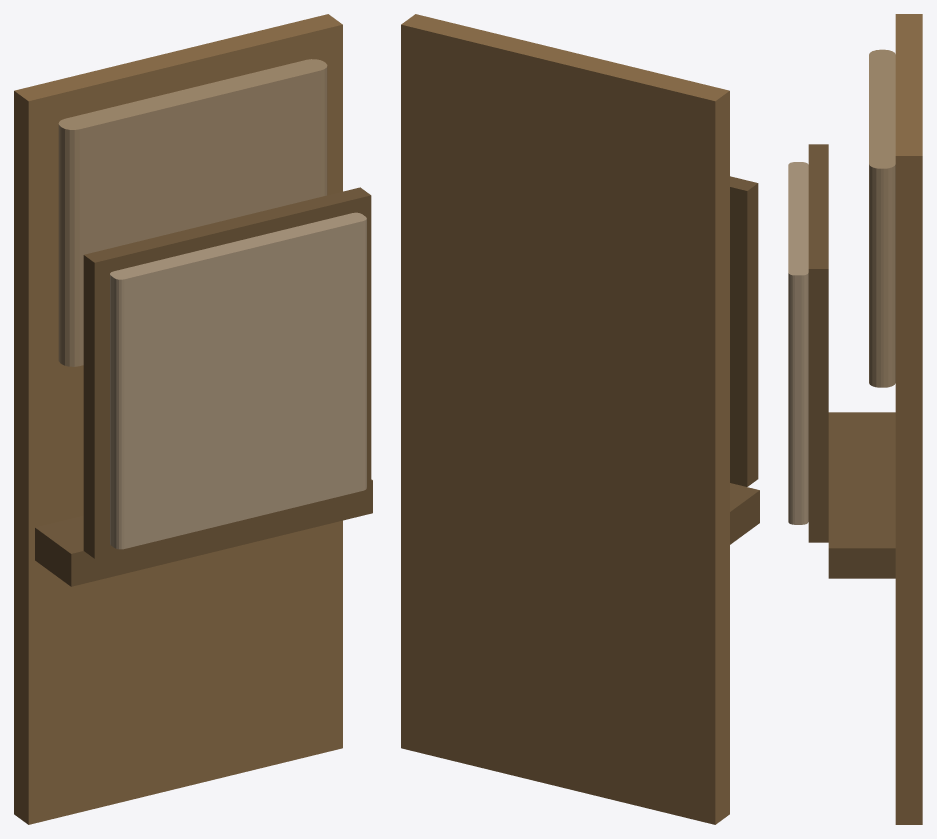
Rendered from wall_folding_seat.glb.
The picture shows the model from 3 angles, left to right: view 1: azimuth 30°, elevation 25°; view 2: azimuth 150°, elevation 25°; view 3: azimuth 270°, elevation 25°; orthographic projection. The views are drawn at different scales.
Parts seen in each view (by area): view 1: wall_folding_seat_Body, wall_folding_seat_Seat; view 2: wall_folding_seat_Body, wall_folding_seat_Seat; view 3: wall_folding_seat_Body, wall_folding_seat_Seat.
Boxes of the visible parts, box(x1,y1,x2,y2) form: wall_folding_seat_Body: box(14, 14, 372, 824); wall_folding_seat_Seat: box(83, 187, 371, 558); wall_folding_seat_Body: box(401, 14, 759, 824); wall_folding_seat_Seat: box(730, 176, 758, 486); wall_folding_seat_Body: box(828, 14, 922, 824); wall_folding_seat_Seat: box(788, 144, 828, 542).
Bounding box in the file's own units: 0.5 × 1.1 × 0.2.
